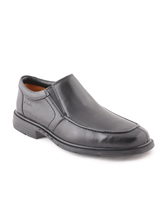shoes: (8, 70, 158, 162)
